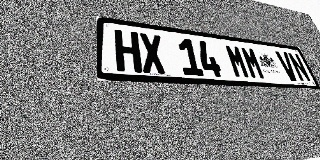1: (176, 37, 204, 76)
4: (195, 40, 223, 77)
H: (114, 29, 142, 73)
M: (224, 44, 251, 79), (240, 46, 266, 80)
N: (287, 52, 312, 82)
V: (275, 51, 300, 81)
X: (138, 32, 167, 74)
